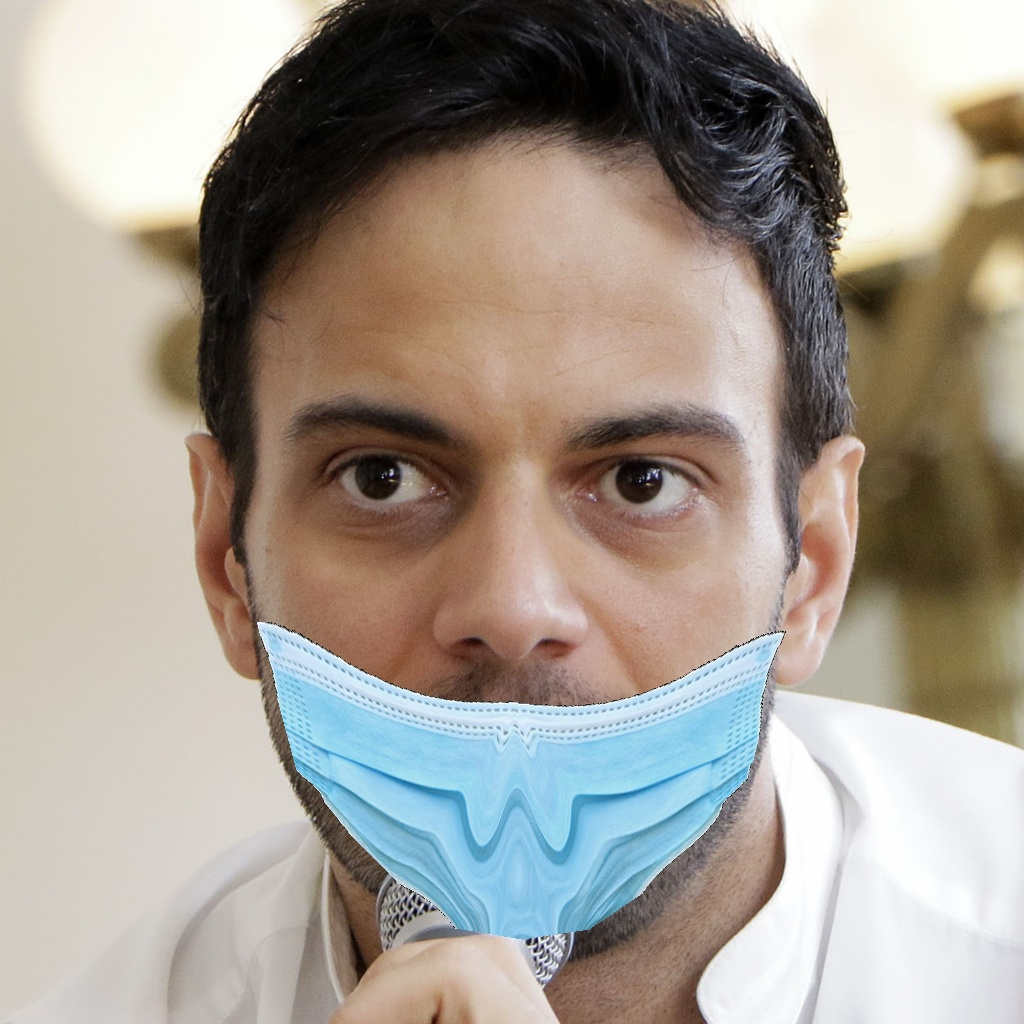mascarilla_mal_puesta: (199, 335, 822, 995)
